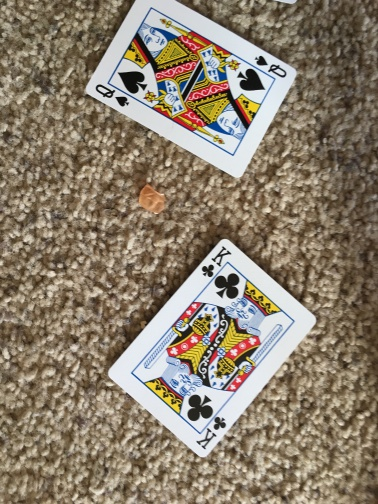king: (108, 236, 317, 454)
queen: (83, 1, 297, 178)
